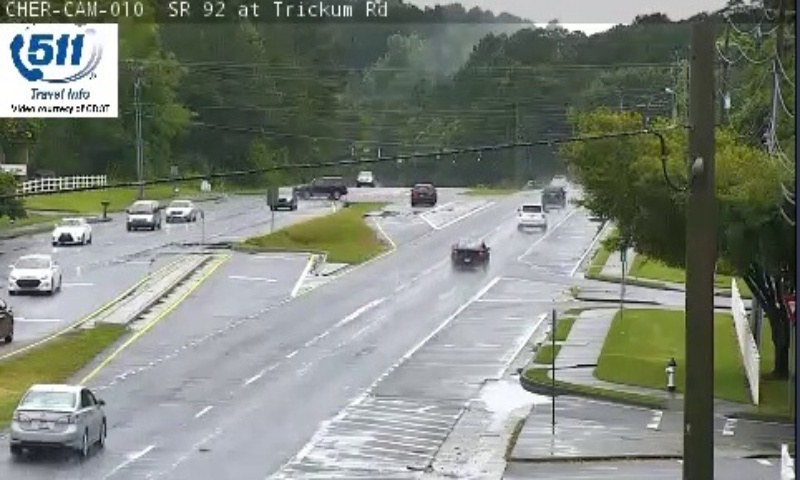car: (9, 384, 106, 449), (451, 240, 487, 268), (516, 203, 544, 229)
